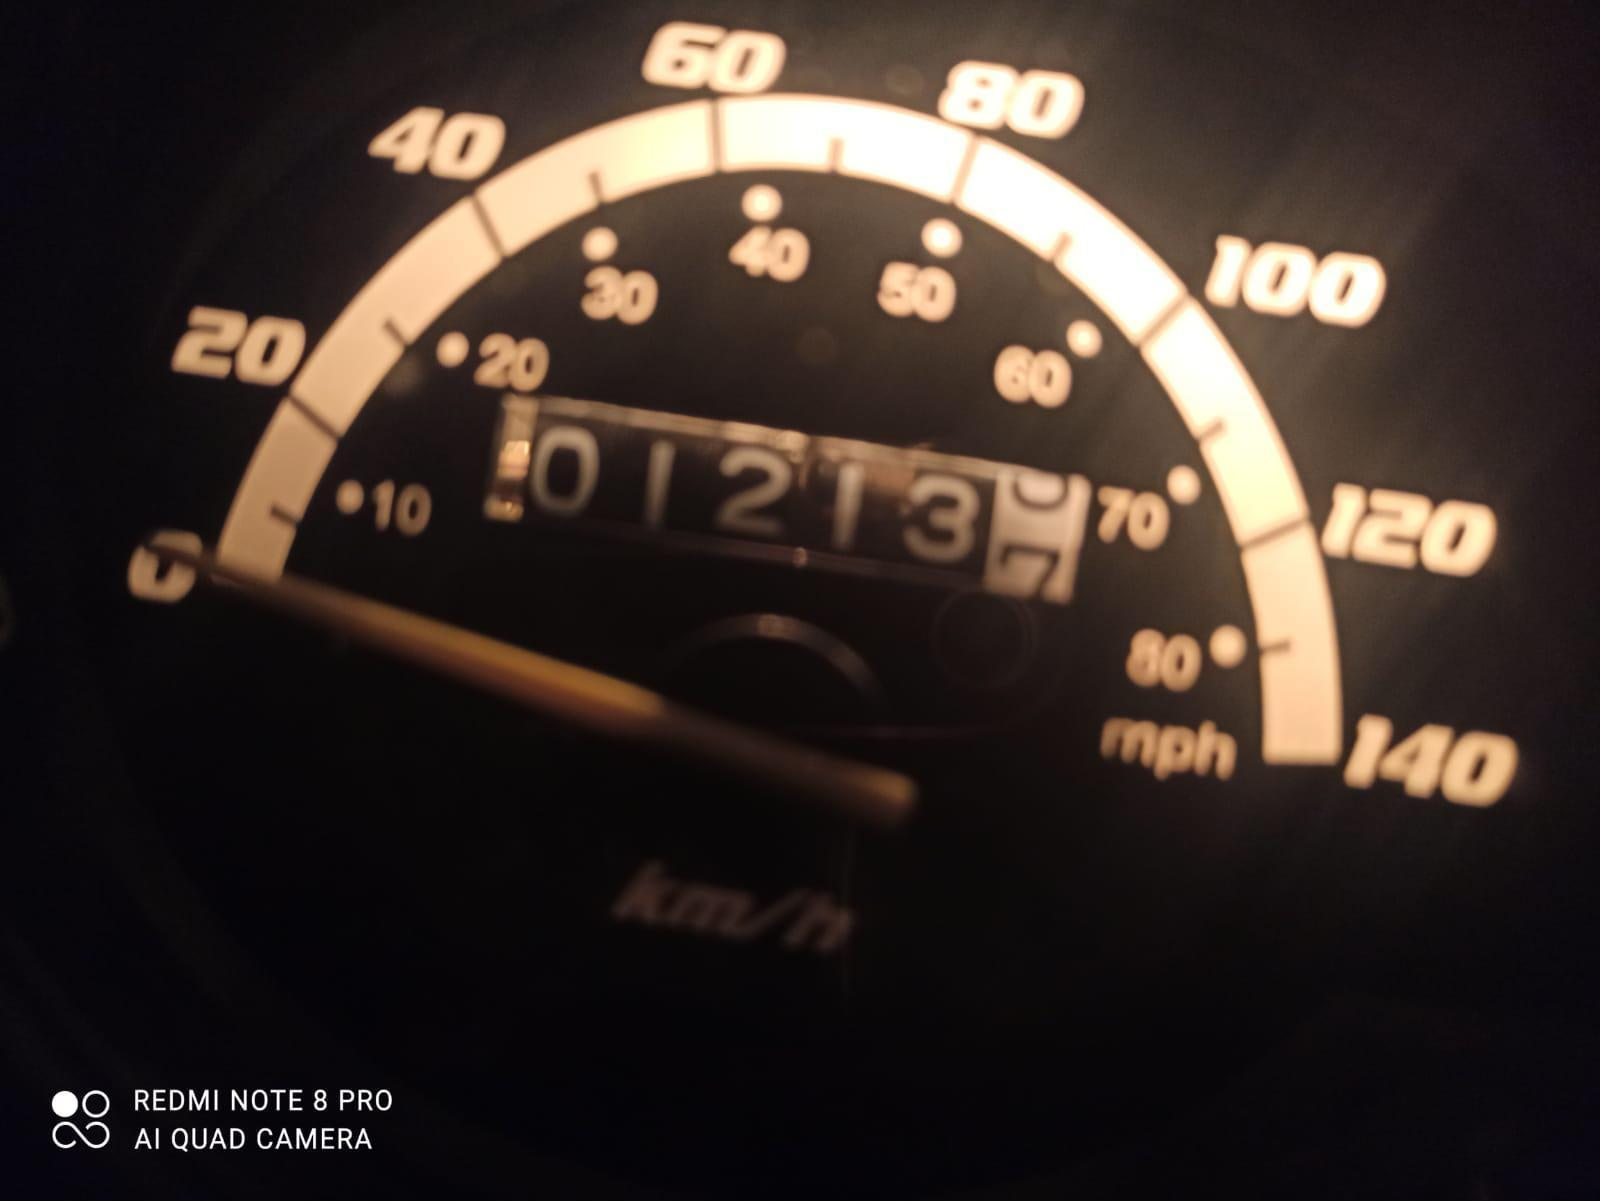0: (527, 415, 609, 537)
1: (821, 436, 878, 590), (630, 413, 683, 564)
2: (713, 424, 799, 559)
3: (890, 455, 982, 582)
7: (996, 520, 1079, 628)
odometer: (486, 390, 1102, 632)
